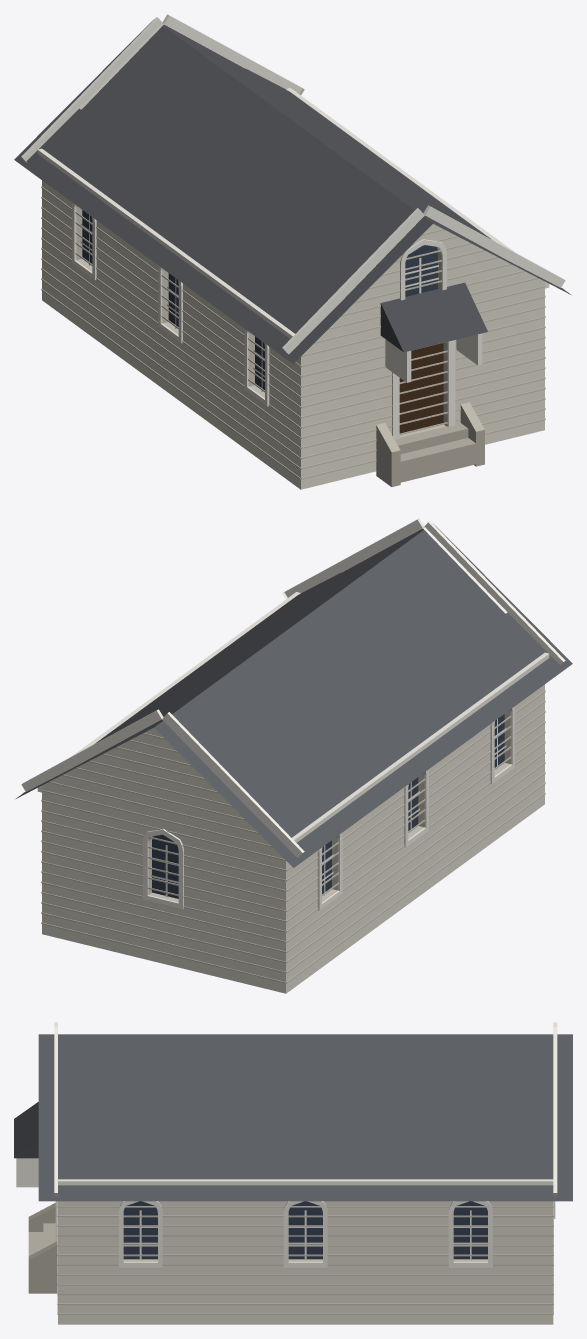
File: ch-cottrell-chapel-1913.glb
3 renders of one model, top to bottom at view 1: azimuth 30°, elevation 25°; view 2: azimuth 150°, elevation 25°; view 3: azimuth 270°, elevation 25°, orthographic. The views are drawn at different scales.
Parts seen in each view (by area): view 1: ch_roof, ch_brick, ch_trim, ch_brick2, ch_conc, ch_roof2, ch_door, ch_stain; view 2: ch_roof, ch_brick, ch_brick2, ch_trim, ch_stain; view 3: ch_roof, ch_brick, ch_brick2, ch_trim, ch_stain, ch_conc, ch_roof2.
Part boxes in pixels (box(x1,y1,x2,y2)): ch_roof: box(14, 19, 570, 363); ch_brick: box(42, 180, 544, 489); ch_trim: box(21, 14, 565, 439); ch_brick2: box(41, 186, 545, 479); ch_conc: box(376, 402, 484, 486); ch_roof2: box(380, 282, 487, 352); ch_door: box(399, 343, 443, 433); ch_stain: box(82, 210, 437, 390); ch_roof: box(16, 523, 572, 867); ch_brick: box(42, 684, 544, 993); ch_brick2: box(41, 690, 545, 983); ch_trim: box(21, 518, 565, 910); ch_stain: box(152, 714, 504, 898); ch_roof: box(38, 1034, 572, 1201); ch_brick: box(58, 1201, 553, 1324); ch_brick2: box(57, 1201, 553, 1314); ch_trim: box(16, 1022, 557, 1267); ch_stain: box(123, 1201, 487, 1259); ch_conc: box(28, 1203, 57, 1293); ch_roof2: box(14, 1102, 38, 1158).
Bounding box in the file's own units: 6.34 × 5.56 × 11.4.
